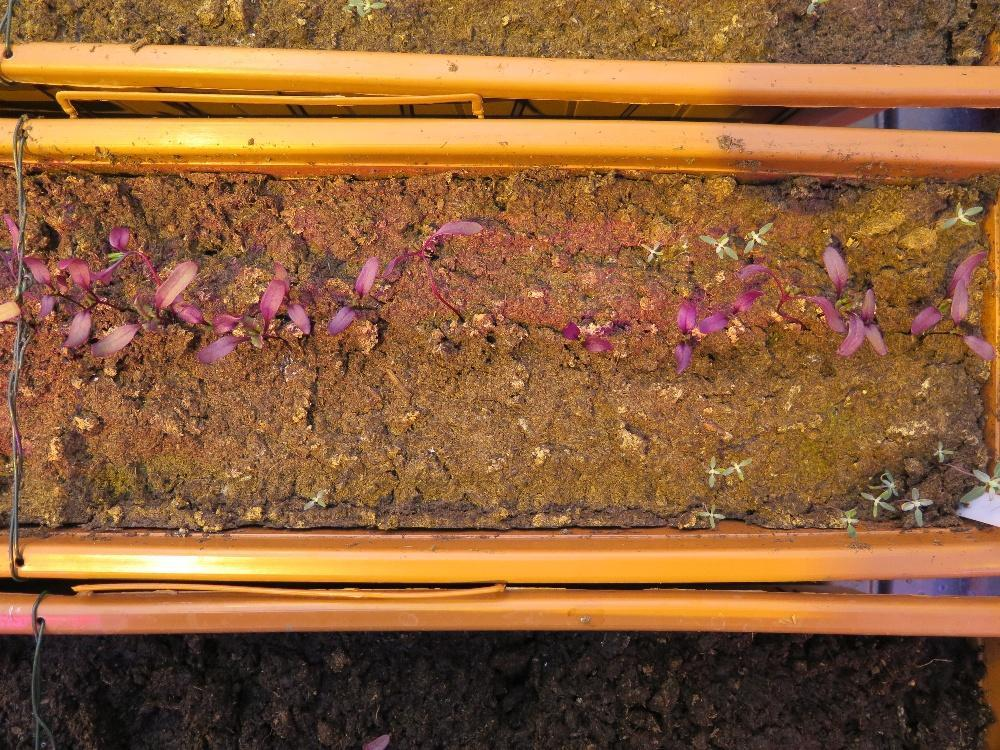weed: (936, 198, 982, 230), (898, 486, 932, 526), (696, 230, 736, 261), (743, 219, 772, 253), (696, 500, 725, 529), (835, 504, 859, 538), (301, 486, 327, 512), (639, 239, 664, 264), (931, 438, 953, 464)
